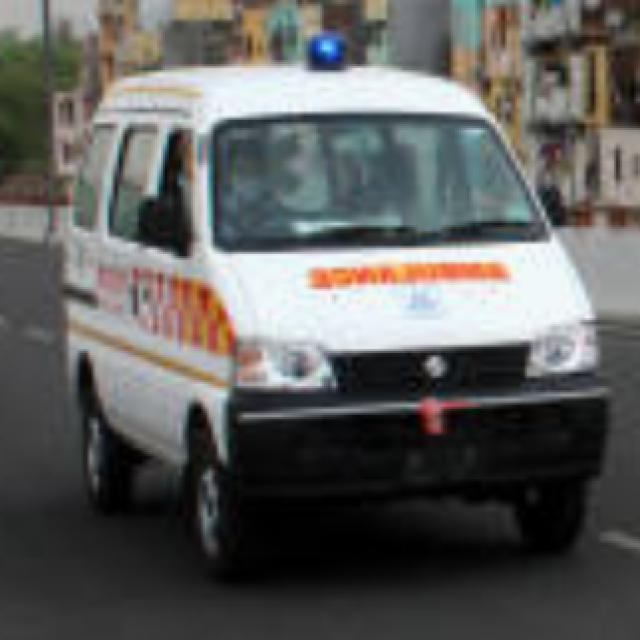emergency_vehicle: (50, 20, 606, 568)
